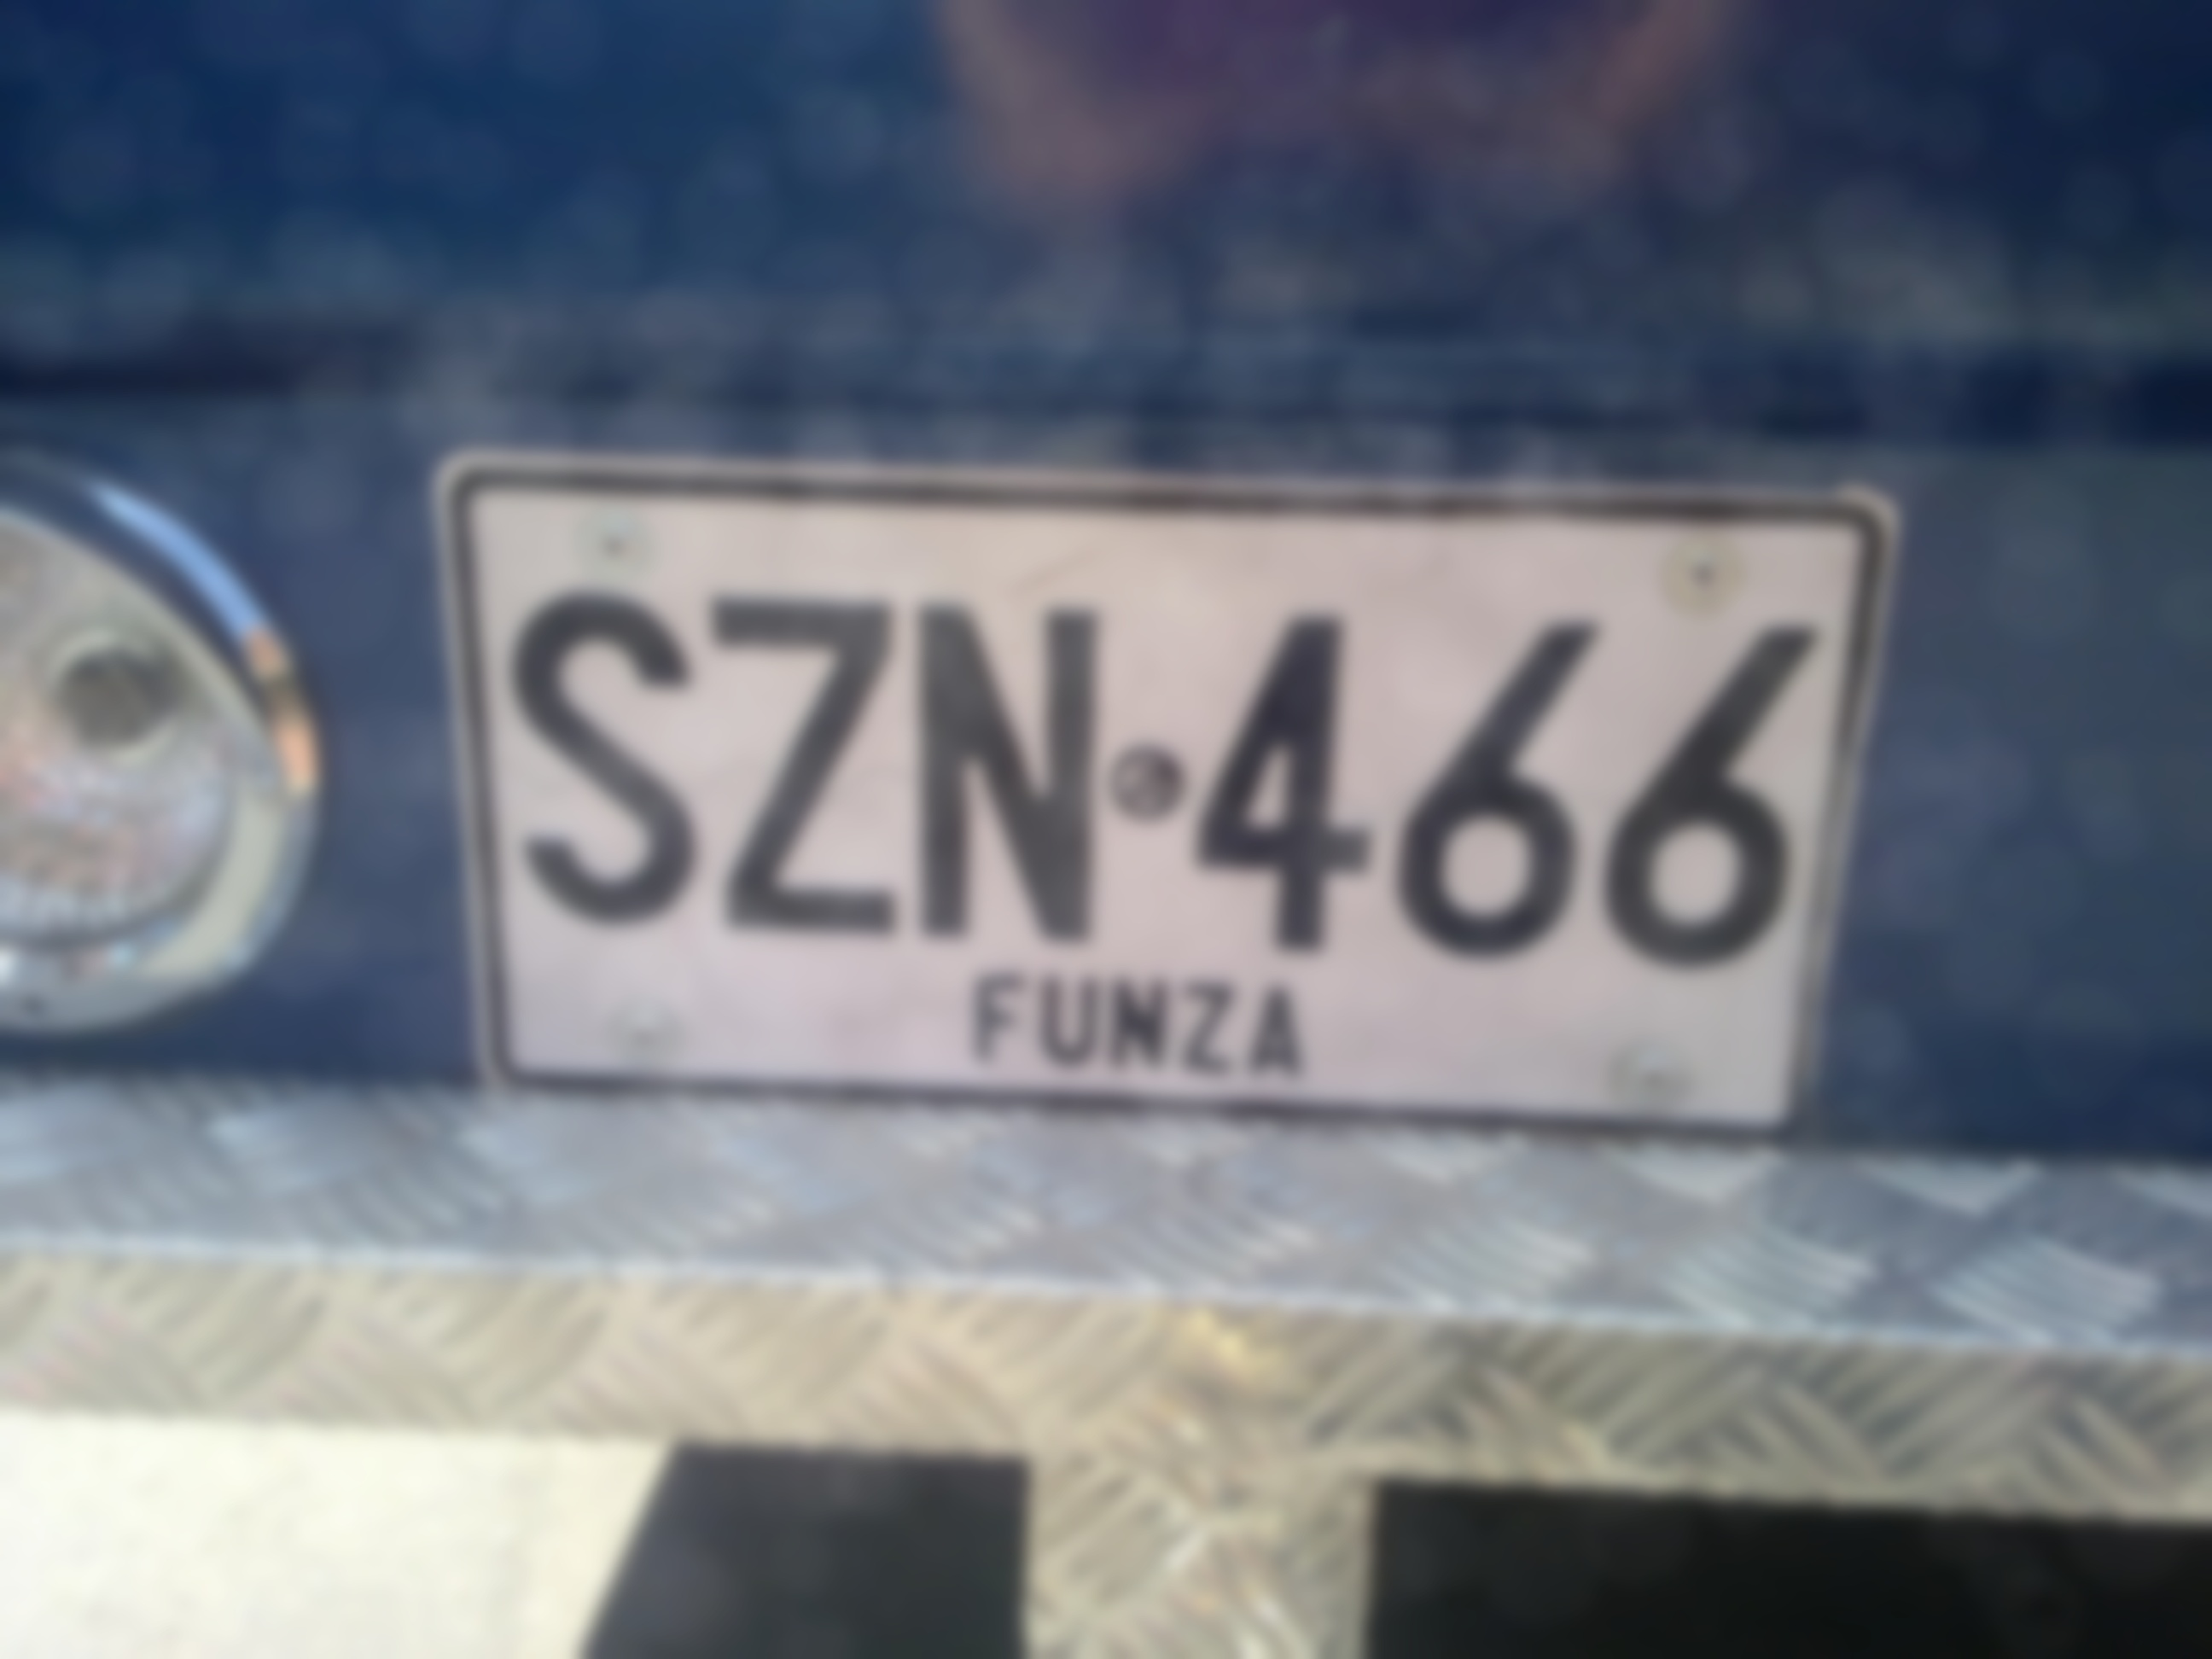placas: (422, 433, 1909, 1161)
